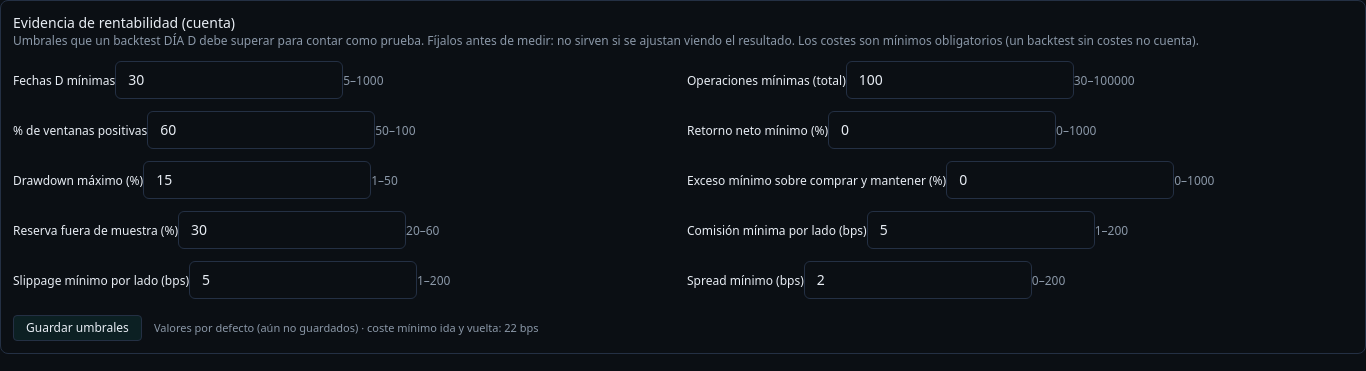
Test: AccountEvidencePolicy › bloquea guardar con un campo vacío
The image size is (1366, 371).
Clear the number field with test id "evidence-policy-minWindows": {"x": 229, "y": 80} [115,61,343,99]
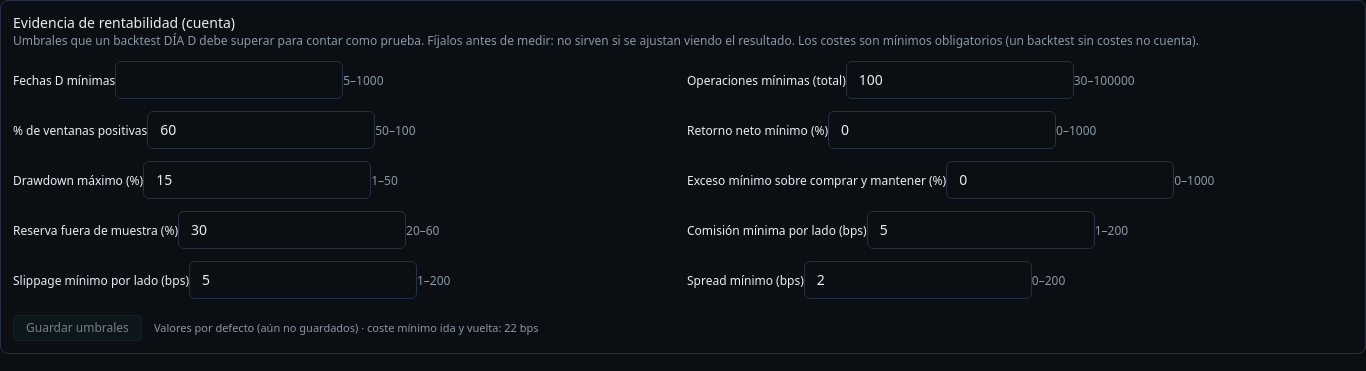
Result: the button with test id "evidence-policy-save" is disabled at [13,315,142,341]
